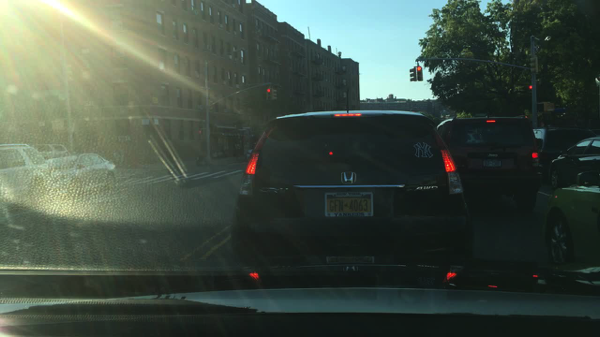car: (230, 109, 473, 262), (434, 114, 538, 212), (541, 169, 599, 265), (532, 125, 597, 183), (0, 143, 53, 209), (44, 152, 118, 198), (546, 137, 599, 191), (30, 143, 72, 162)
traffic light: (527, 55, 538, 79), (542, 101, 555, 114), (415, 66, 423, 82), (408, 67, 416, 82), (266, 87, 272, 103), (272, 87, 277, 102), (197, 128, 205, 137), (527, 81, 532, 94)
